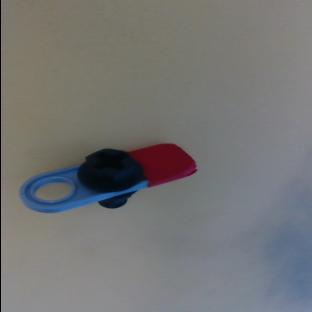part_1_good: (14, 115, 198, 241)
